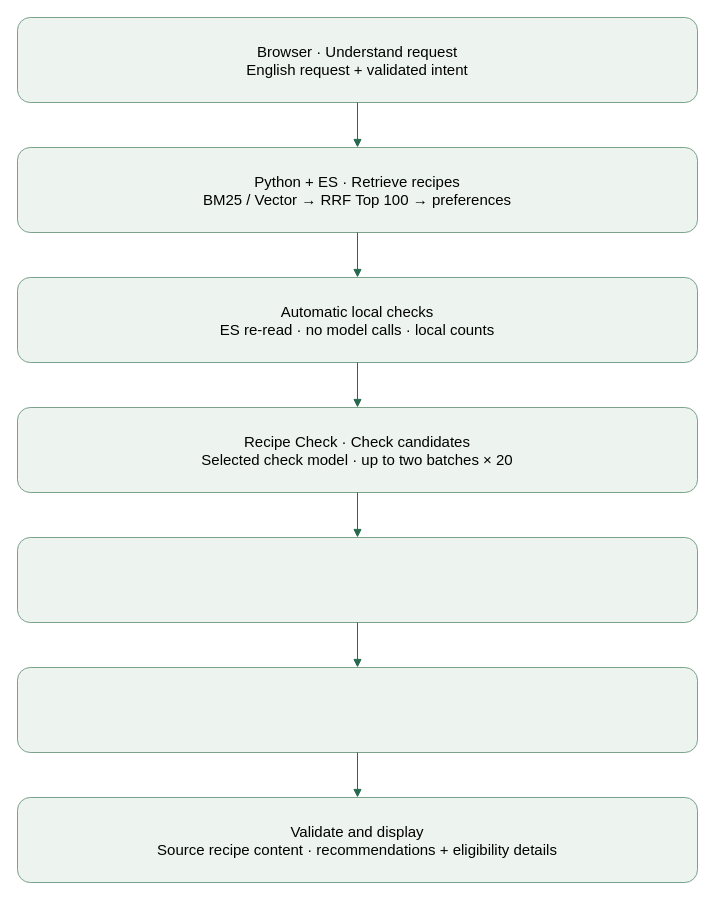
This 715x900 diagram has some shape labels left out. Here are the shapes that lost their labels. From the top down, the centre of each, then its label:
At [357,579]: "Server qualified pool eligibility_id · source snapshot · LRU 20 / TTL 30 min".
At [357,709]: "Generation · Generate Selected summary model · one call · recheck default on".
